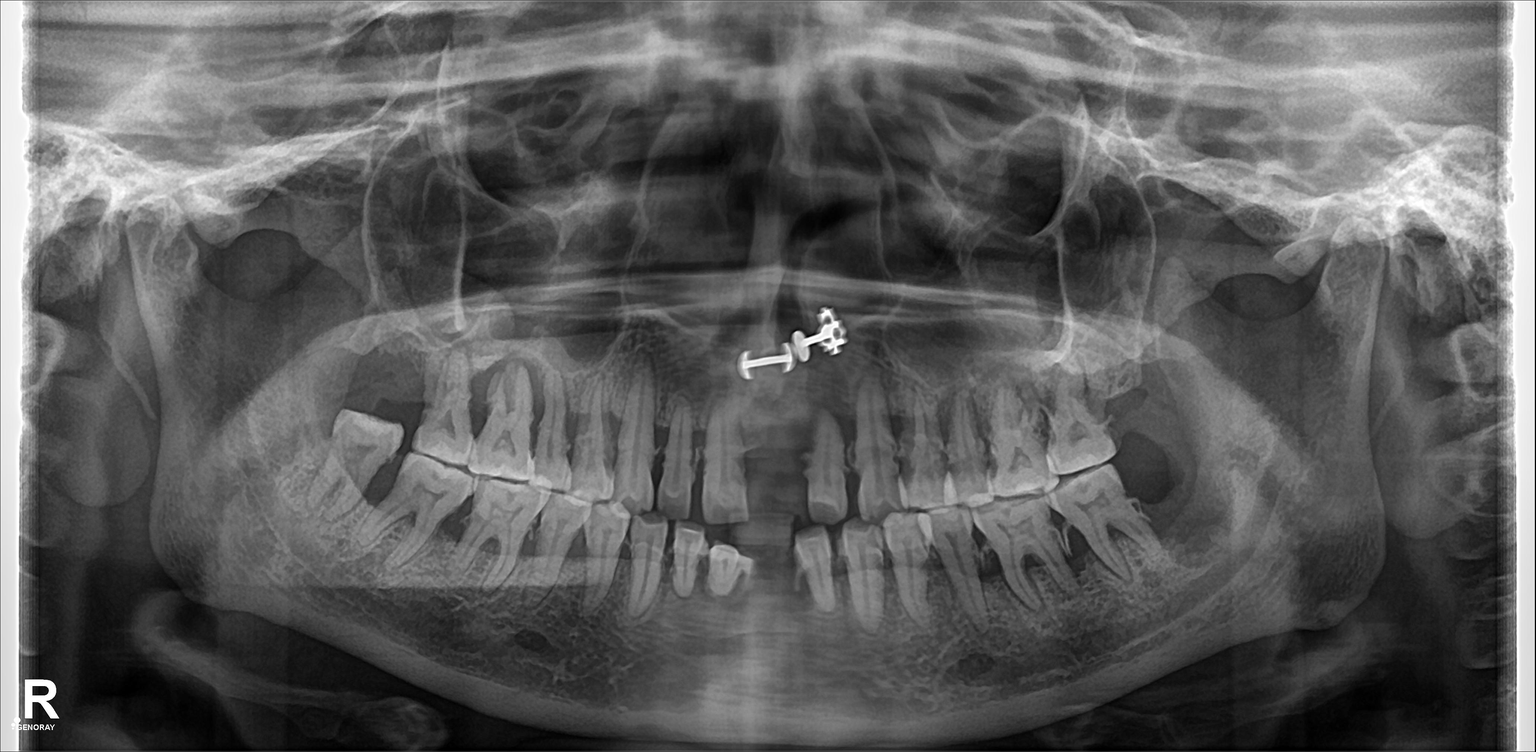Missing Tooth: (752, 408, 805, 514), (367, 324, 422, 413), (1136, 450, 1198, 526), (764, 536, 818, 621), (1104, 359, 1158, 431)
